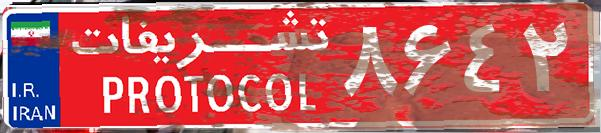2: (520, 20, 580, 115)
4: (460, 20, 520, 115)
6: (400, 20, 460, 115)
8: (340, 20, 400, 115)
تشریفات: (60, 8, 340, 125)
